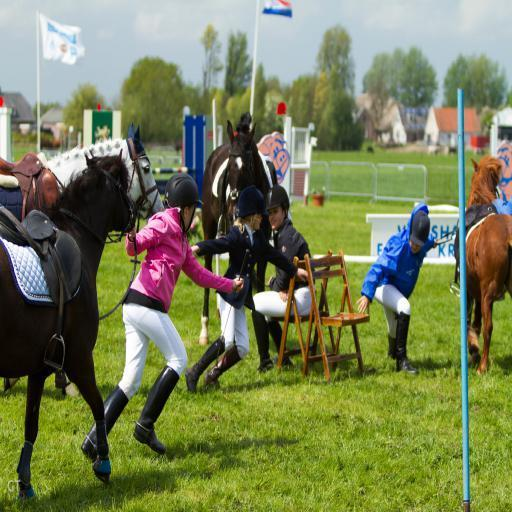horse: (0, 146, 139, 504), (0, 120, 167, 399), (198, 117, 280, 346), (466, 152, 512, 374)
